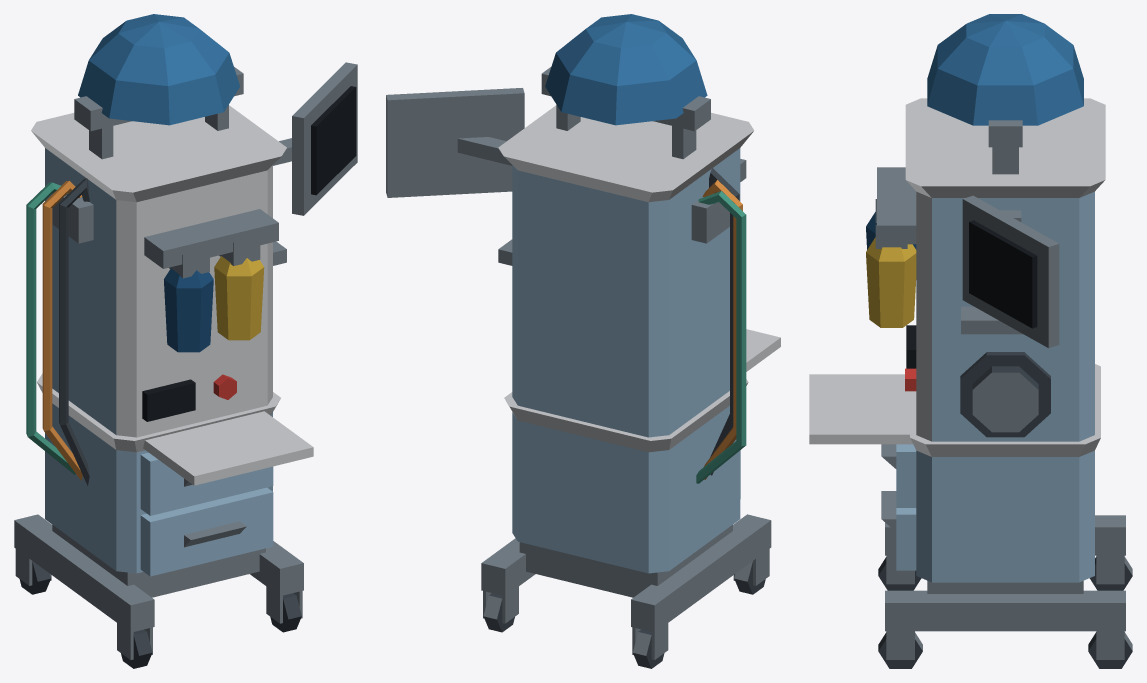
File: anaesthesia-machine-da4f50.glb
3 views of the same model, side by side, from view 1: azimuth 30°, elevation 25°; view 2: azimuth 150°, elevation 25°; view 3: azimuth 270°, elevation 25° (orthographic). The views are drawn at different scales.
Visible parts, largest first — view 1: anaesthesia-machine, shelf, monitor-arm, drawer, vaporiser-1, wheel-fl, wheel-fr, wheel-rl; view 2: anaesthesia-machine, monitor-arm, shelf, wheel-rr, wheel-rl; view 3: anaesthesia-machine, monitor-arm, shelf, drawer, wheel-rr, wheel-fr.
Boxes of the visible parts, x1=… form: anaesthesia-machine: x1=14, y1=14, x2=303, y2=659; shelf: x1=143, y1=411, x2=313, y2=485; monitor-arm: x1=292, y1=62, x2=357, y2=215; drawer: x1=140, y1=452, x2=273, y2=515; vaporiser-1: x1=164, y1=268, x2=213, y2=352; wheel-fl: x1=121, y1=629, x2=152, y2=668; wheel-fr: x1=270, y1=593, x2=301, y2=632; wheel-rl: x1=19, y1=561, x2=50, y2=594; anaesthesia-machine: x1=457, y1=14, x2=771, y2=659; monitor-arm: x1=386, y1=88, x2=524, y2=197; shelf: x1=746, y1=329, x2=780, y2=371; wheel-rr: x1=483, y1=593, x2=514, y2=632; wheel-rl: x1=633, y1=629, x2=664, y2=668; anaesthesia-machine: x1=866, y1=14, x2=1125, y2=659; monitor-arm: x1=962, y1=195, x2=1059, y2=348; shelf: x1=809, y1=374, x2=912, y2=444; drawer: x1=881, y1=444, x2=916, y2=507; wheel-rr: x1=1088, y1=632, x2=1132, y2=668; wheel-fr: x1=878, y1=632, x2=922, y2=668.
Bounding box in the file's own units: 0.9242 × 1.5 × 0.725.
